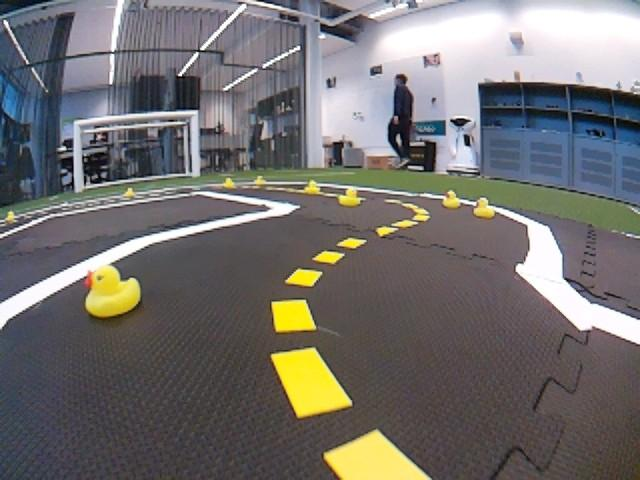Duckies: (85, 265, 142, 318), (337, 187, 362, 207), (472, 197, 495, 218), (443, 189, 461, 208), (303, 179, 322, 195), (222, 177, 236, 189), (124, 187, 136, 197), (253, 176, 265, 186), (7, 211, 17, 221)
